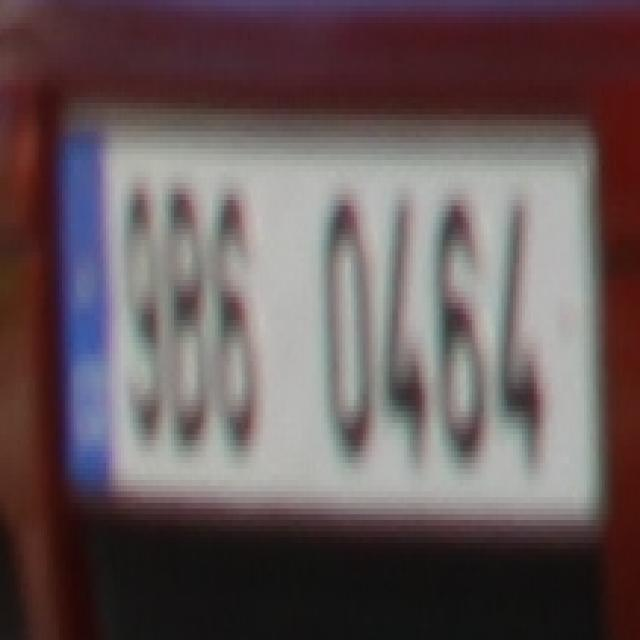0: (318, 188, 374, 463)
4: (374, 194, 424, 463), (498, 194, 542, 463)
6: (434, 200, 489, 474), (212, 182, 262, 452)
9: (120, 188, 160, 446)
B: (160, 182, 203, 452)
